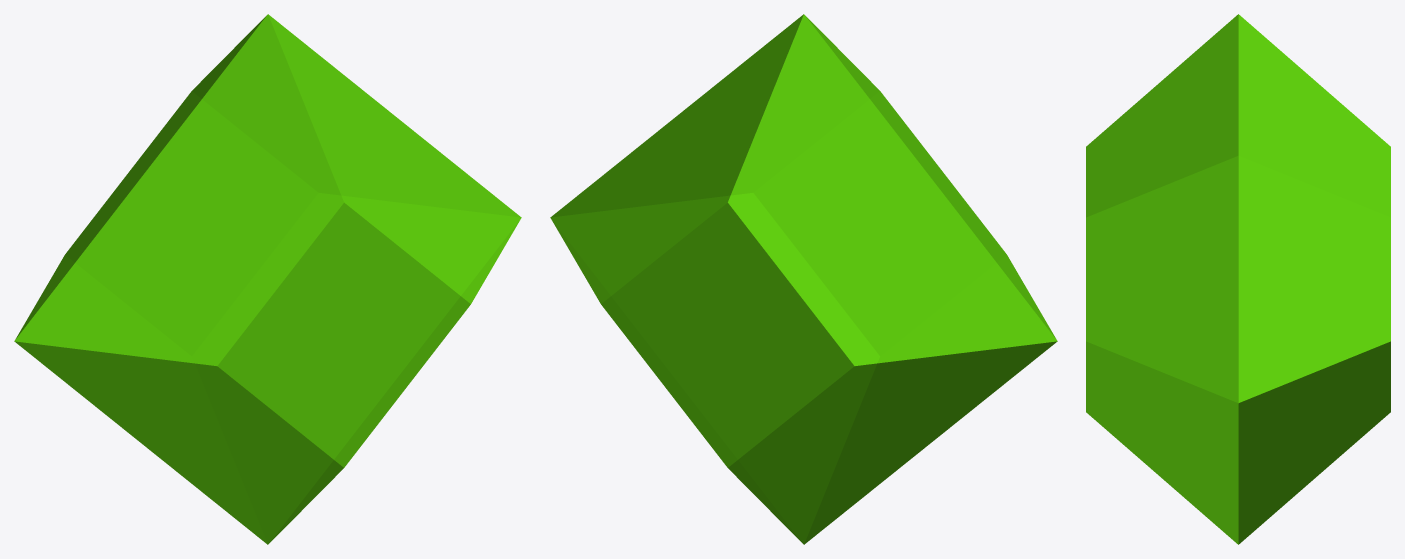
File: Gold3.fbx
3 views of the same model, side by side, from view 1: azimuth 30°, elevation 25°; view 2: azimuth 150°, elevation 25°; view 3: azimuth 270°, elevation 25° (orthographic).
Visible parts, largest first — view 1: EmeraldGreen4; view 2: EmeraldGreen4; view 3: EmeraldGreen4.
Boxes of the visible parts, left/top/right/bottom form: EmeraldGreen4: left=14, top=14, right=521, bottom=544; EmeraldGreen4: left=550, top=14, right=1057, bottom=544; EmeraldGreen4: left=1086, top=14, right=1390, bottom=544.
Bounding box in the file's own units: 0.2637 × 0.2637 × 0.1372.
